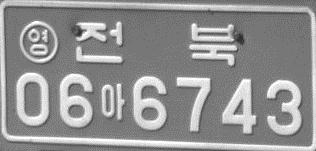0: (15, 71, 50, 128)
3: (265, 79, 303, 137)
4: (221, 78, 257, 134)
6: (131, 74, 167, 131), (58, 72, 93, 128)
7: (175, 76, 210, 133)
아: (99, 83, 125, 120)
영: (18, 19, 58, 64)
전북_D: (74, 21, 236, 66)
